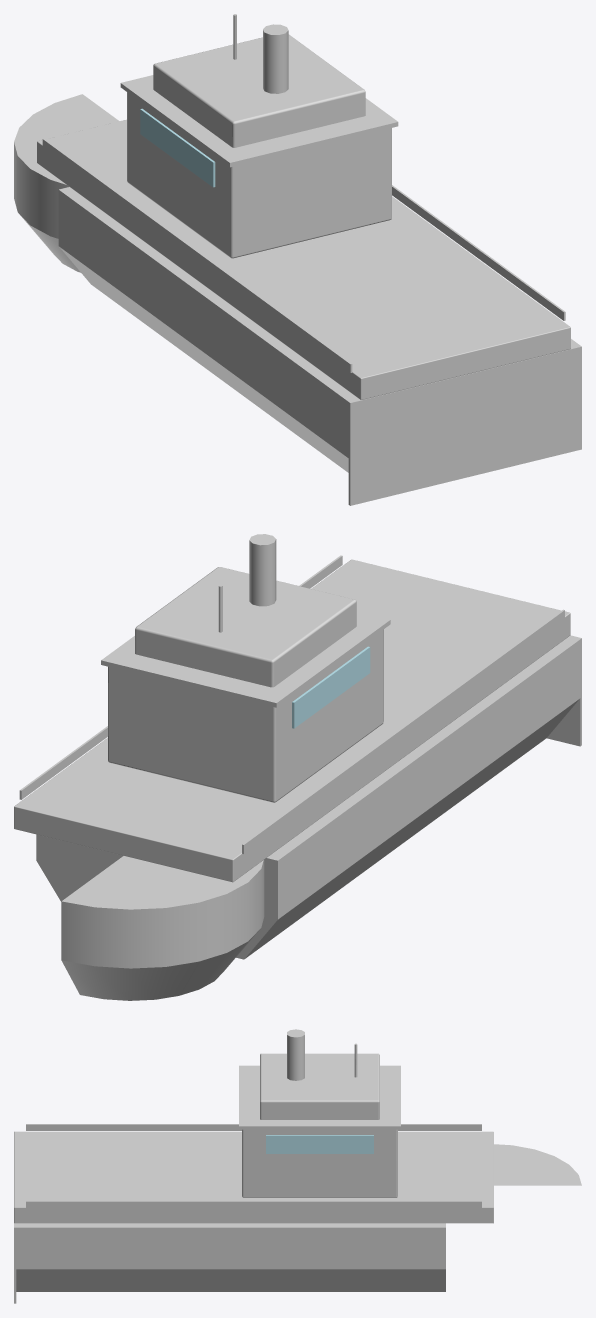
File: Icebreaker.glb
3 renders of one model, top to bottom at view 1: azimuth 30°, elevation 25°; view 2: azimuth 150°, elevation 25°; view 3: azimuth 270°, elevation 25°, orthographic. The views are drawn at different scales.
Parts seen in each view (by area): view 1: Body, Glow; view 2: Body, Glow; view 3: Body, Glow.
Part boxes in pixels (x1,y1,x2,y2): Body: (14,14,581,505); Glow: (140,108,215,187); Body: (14,534,581,1000); Glow: (292,646,370,728); Body: (14,1029,581,1303); Glow: (266,1135,373,1153).
Bounding box in the file's own units: 33 × 42 × 94.67.
